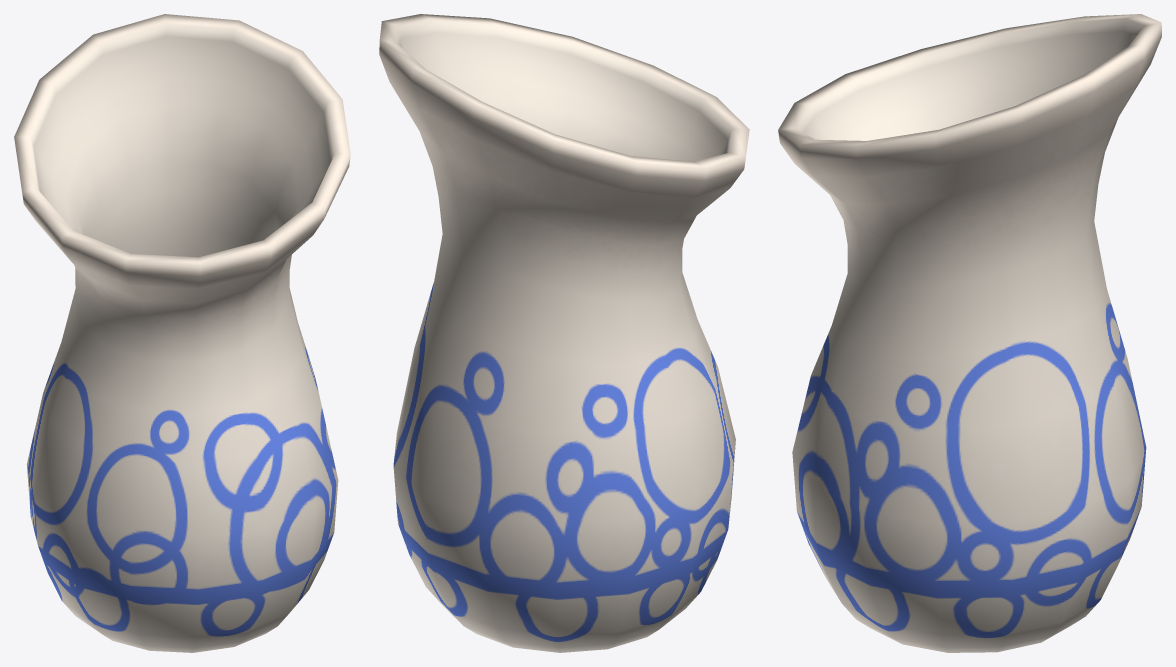
File: Vase.fbx
3 views of the same model, side by side, from view 1: azimuth 30°, elevation 25°; view 2: azimuth 150°, elevation 25°; view 3: azimuth 270°, elevation 25° (orthographic). The views are drawn at different scales.
Visible parts, largest first — view 1: Vase; view 2: Vase; view 3: Vase.
Part boxes in pixels (x1,y1,x2,y2): Vase: (14, 14, 350, 652); Vase: (379, 14, 749, 652); Vase: (778, 14, 1161, 652).
Bounding box in the file's own units: 618 × 1086 × 630.
1 material, 1 textured.
